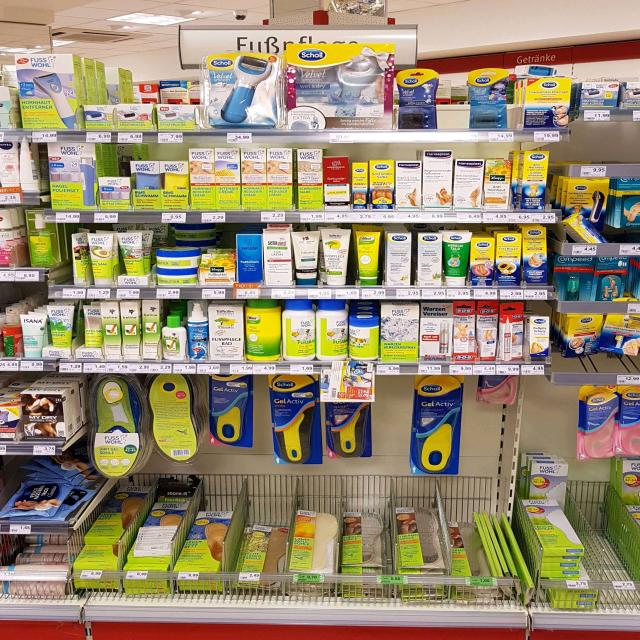empty: (438, 98, 468, 138)
